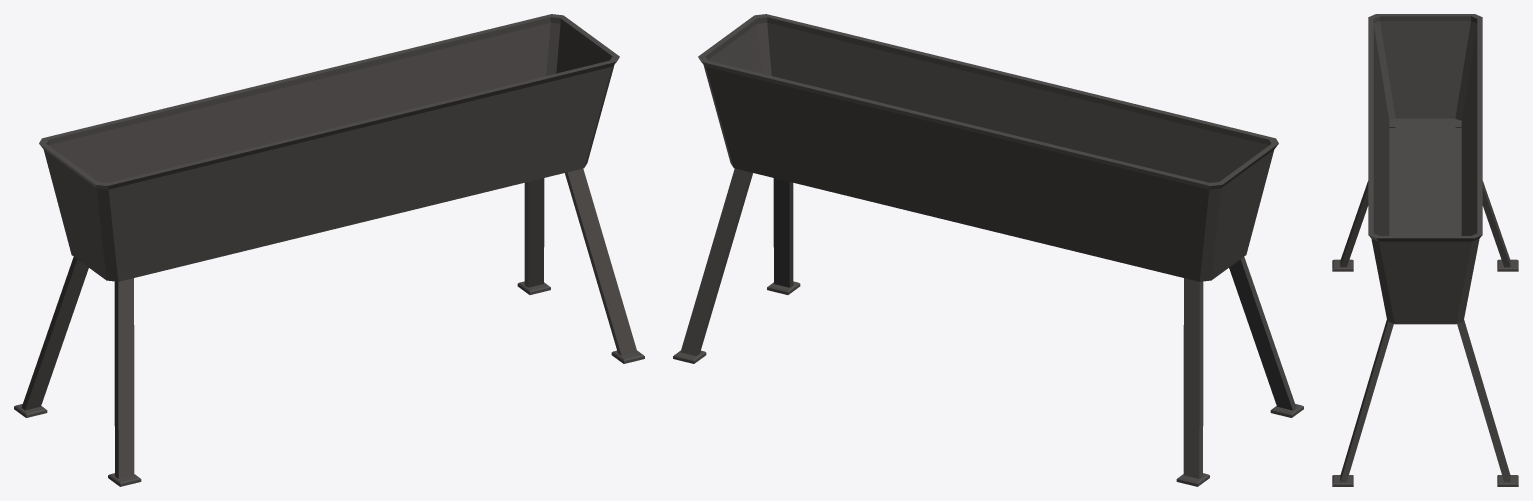
Rendered from SM_Cook_Brazier_01.fbx.
The picture shows the model from 3 angles, left to right: view 1: azimuth 30°, elevation 25°; view 2: azimuth 150°, elevation 25°; view 3: azimuth 270°, elevation 25°; orthographic projection. The views are drawn at different scales.
Visible parts, largest first — view 1: SM_Cook_Brazier_01; view 2: SM_Cook_Brazier_01; view 3: SM_Cook_Brazier_01.
Boxes of the visible parts, x1,y1,x2,y2 form: SM_Cook_Brazier_01: [14, 14, 644, 486]; SM_Cook_Brazier_01: [673, 14, 1303, 486]; SM_Cook_Brazier_01: [1332, 14, 1518, 486].
Size of the model in its own units: 1.39 by 0.7203 by 0.4882.
1 material, 1 textured.
